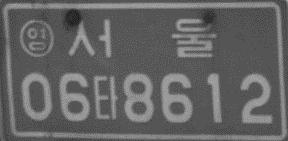0: (20, 71, 53, 122)
1: (200, 72, 233, 124)
2: (239, 72, 273, 124)
6: (158, 70, 193, 124), (57, 72, 91, 122)
8: (123, 72, 155, 123)
서울_D: (66, 17, 217, 60)
영: (18, 18, 54, 58)
타: (93, 74, 119, 121)
